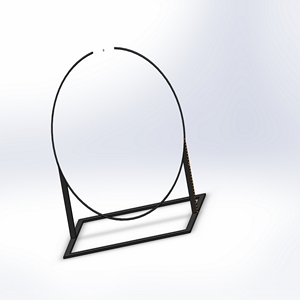circle: (47, 43, 208, 258)
